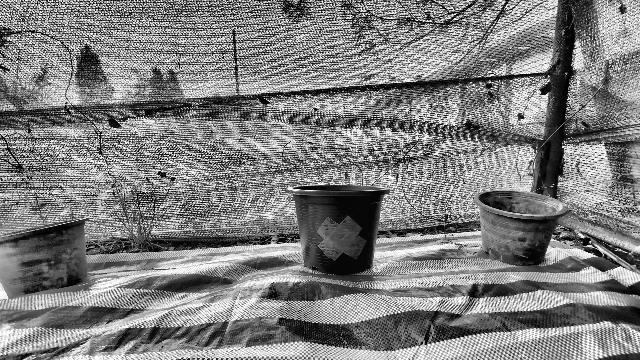pot: (287, 185, 389, 276), (474, 190, 569, 266), (0, 218, 88, 299)
